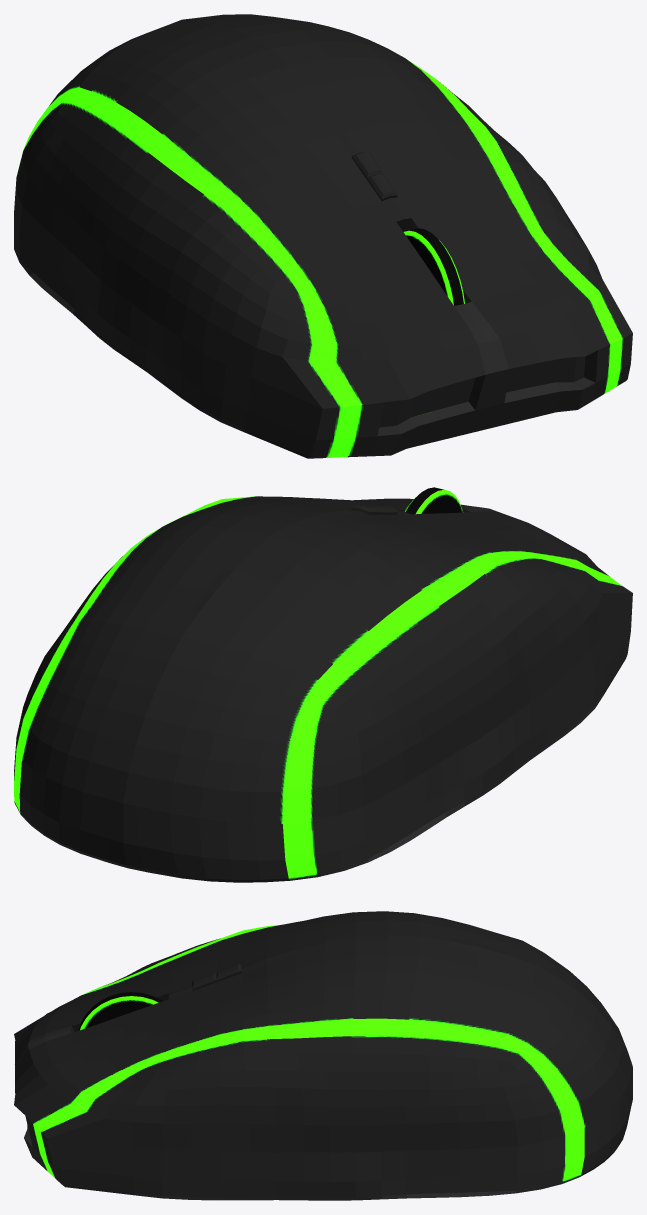
The model's file is Mouse3.fbx.
The picture shows the model from 3 angles, top to bottom: view 1: azimuth 30°, elevation 25°; view 2: azimuth 150°, elevation 25°; view 3: azimuth 270°, elevation 25°; orthographic projection. The views are drawn at different scales.
Parts seen in each view (by area): view 1: Mouse3Baked; view 2: Mouse3Baked; view 3: Mouse3Baked.
Boxes of the visible parts, x1,y1,x2,y2 form: Mouse3Baked: [14, 14, 632, 458]; Mouse3Baked: [14, 487, 632, 882]; Mouse3Baked: [14, 911, 632, 1200].
Size of the model in its own units: 139 by 77.71 by 232.
